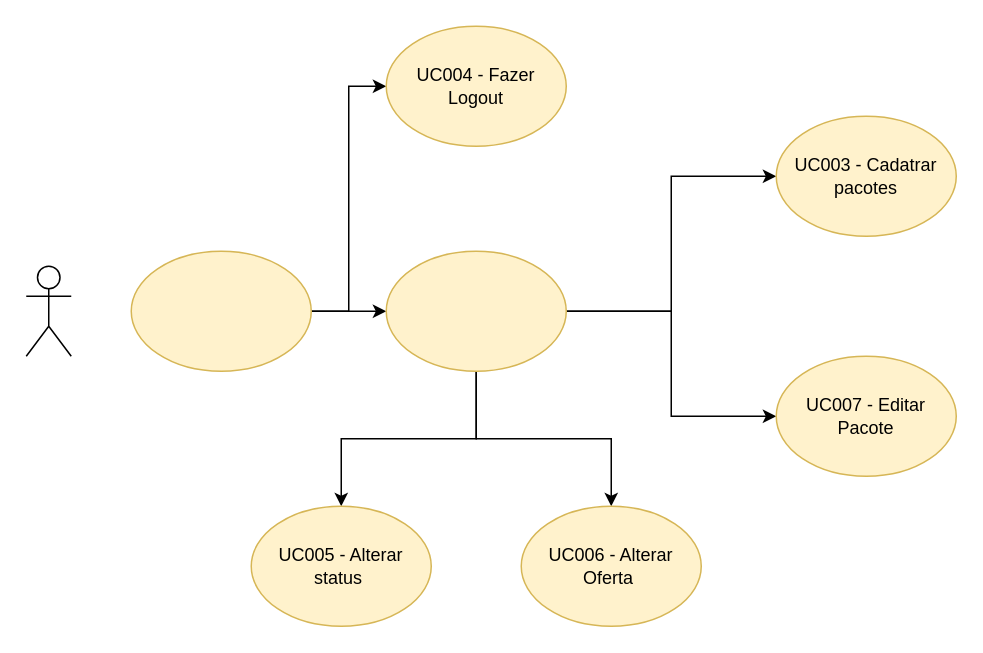
This 983x653 diagram has some shape labels left out. The centre of each missing label's shape, as x and y in pixels:
"Adm" goes at [48,310].
"UC001 - Efetuar Login" goes at [220,310].
"UC002 - Listar Pacotes" goes at [475,310].
